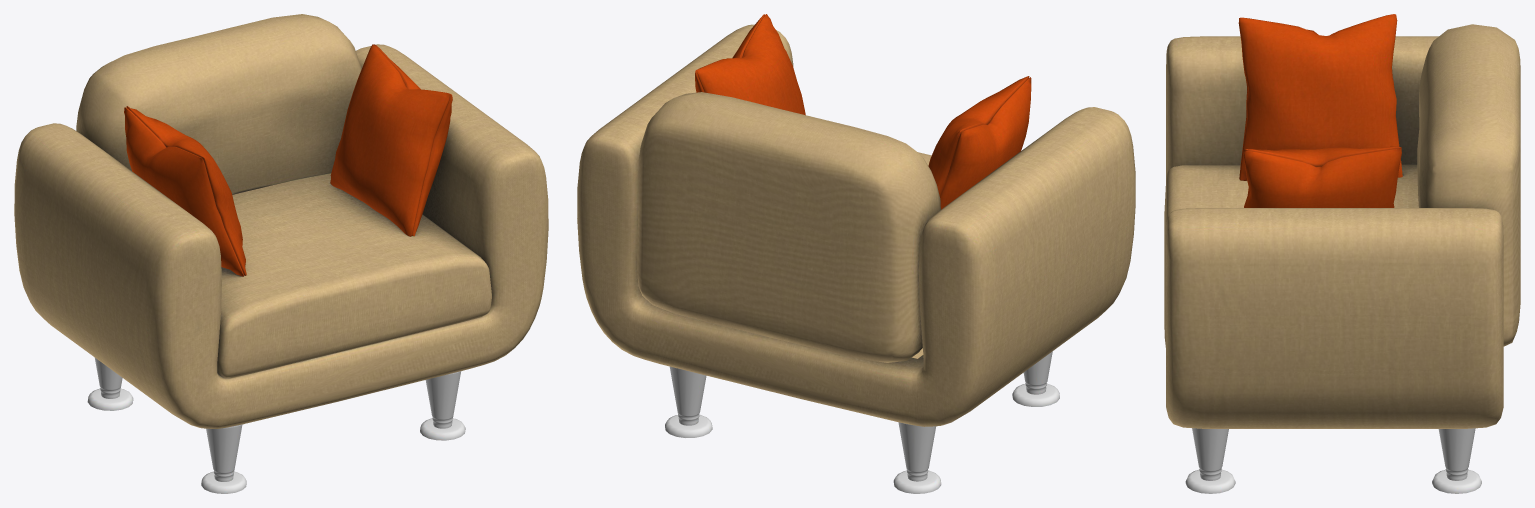
Rendered from Sofa_Mobile_AR.glb.
3 renders of one model, left to right at view 1: azimuth 30°, elevation 25°; view 2: azimuth 150°, elevation 25°; view 3: azimuth 270°, elevation 25°, orthographic. The views are drawn at different scales.
Size of the model in its own units: 1.16 by 0.9251 by 0.836.
Materials: 1 (1 with a texture image).
